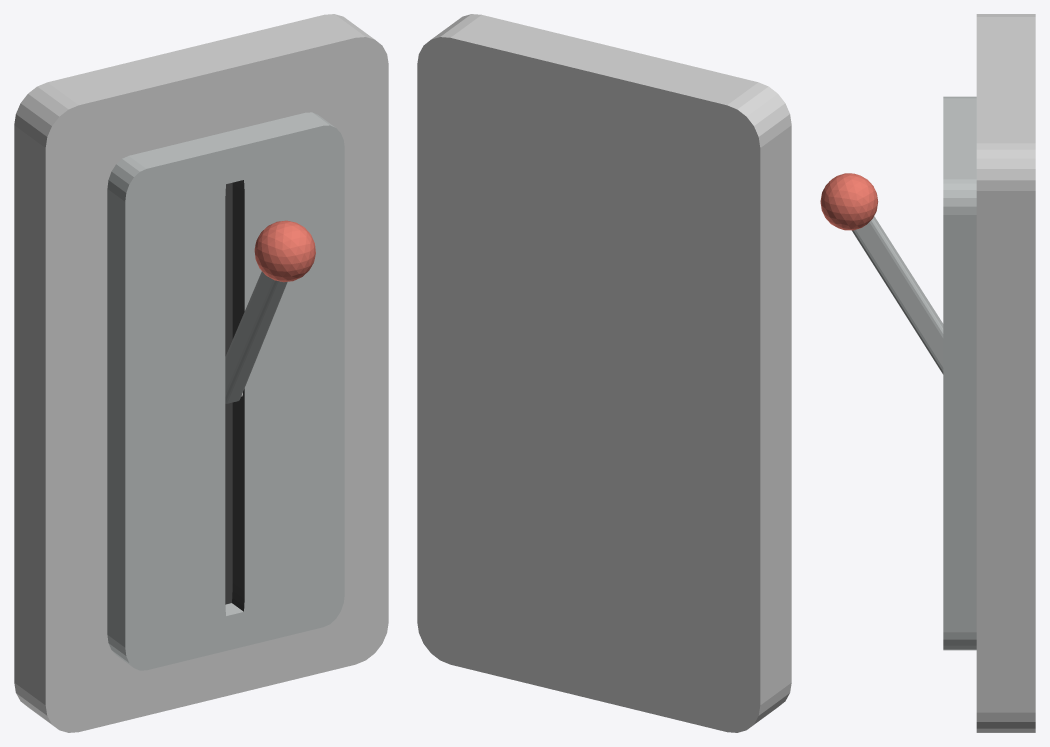
The model's file is Lever3.fbx.
The picture shows the model from 3 angles, left to right: view 1: azimuth 30°, elevation 25°; view 2: azimuth 150°, elevation 25°; view 3: azimuth 270°, elevation 25°; orthographic projection. The views are drawn at different scales.
Parts seen in each view (by area): view 1: Lever_Base3, Lever3; view 2: Lever_Base3; view 3: Lever_Base3, Lever3.
Part boxes in pixels (bbox=[...]): Lever_Base3: bbox=[14, 14, 388, 732]; Lever3: bbox=[225, 220, 315, 403]; Lever_Base3: bbox=[417, 14, 791, 732]; Lever_Base3: bbox=[943, 14, 1035, 732]; Lever3: bbox=[820, 173, 943, 374].
Size of the model in its own units: 126 by 220 by 73.1.
